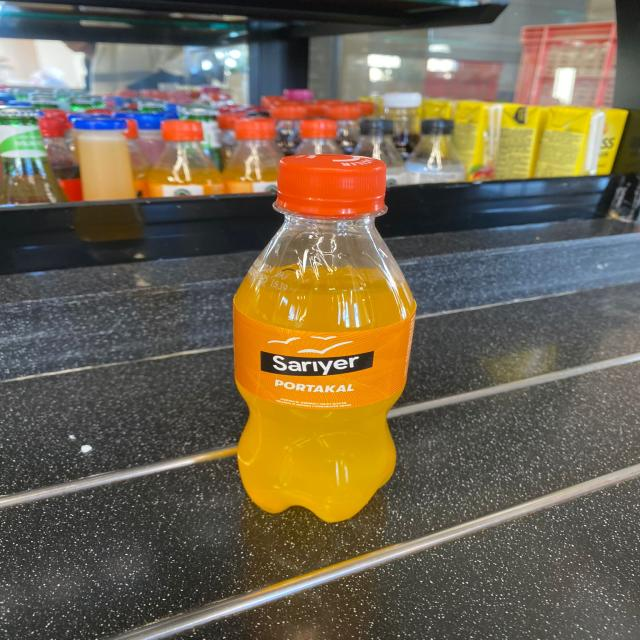yan_yemek: (230, 152, 418, 523)
